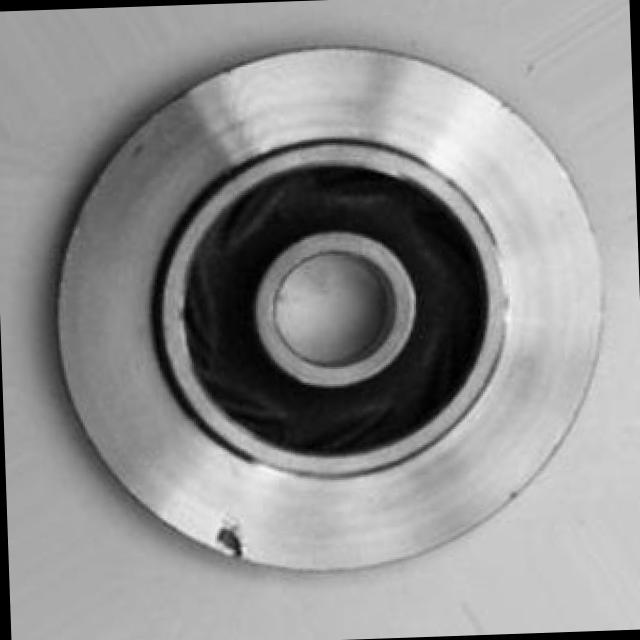Defect: (215, 518, 253, 564)
